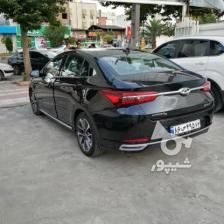plate: (170, 117, 202, 137)
